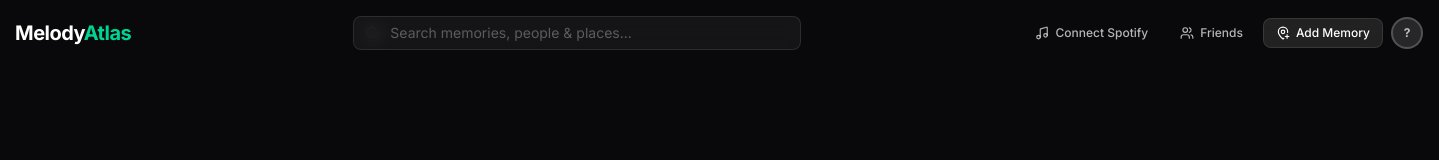
Test case: Header › filters pins by title in search
This screenshot has width=1439, height=160.
Type "NYC" into the field with placeholder "Search memories, people & places..." at (577, 33), box 353,16 -> 801,50
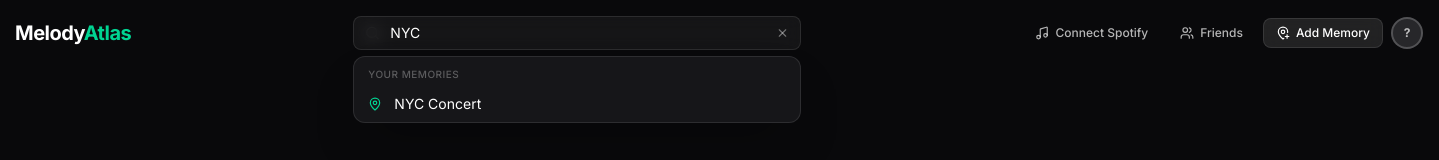
Result: the text "Your Memories" is shown at 368,68 -> 459,80
Result: the text "NYC Concert" is shown at 394,94 -> 481,114
